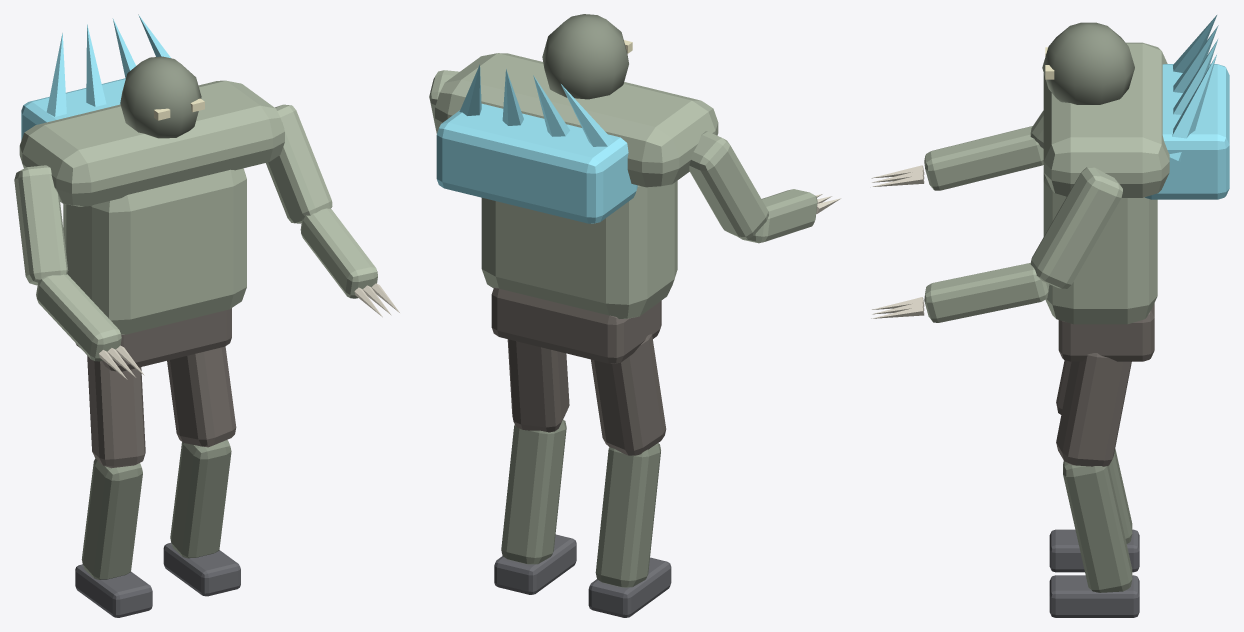
The model's file is enemy_alpha.fbx.
The picture shows the model from 3 angles, left to right: view 1: azimuth 30°, elevation 25°; view 2: azimuth 150°, elevation 25°; view 3: azimuth 270°, elevation 25°; orthographic projection. The views are drawn at different scales.
Visible parts, largest first — view 1: enemy_alpha, LegL.006, LegR.006, ArmR, ArmL, Head; view 2: enemy_alpha, LegR.006, LegL.006, ArmR, Head; view 3: enemy_alpha, LegL.006, ArmL, Head, ArmR, LegR.006.
Part boxes in pixels (left/top/right/bottom): enemy_alpha: left=19, top=14, right=284, bottom=371; LegL.006: left=163, top=346, right=240, bottom=596; LegR.006: left=75, top=355, right=152, bottom=617; ArmR: left=14, top=165, right=144, bottom=379; ArmL: left=266, top=104, right=399, bottom=317; Head: left=120, top=56, right=204, bottom=138; enemy_alpha: left=435, top=53, right=718, bottom=363; LegR.006: left=588, top=334, right=671, bottom=617; LegL.006: left=494, top=339, right=576, bottom=594; ArmR: left=689, top=131, right=840, bottom=243; Head: left=542, top=14, right=632, bottom=99; enemy_alpha: left=1043, top=15, right=1229, bottom=361; LegL.006: left=1049, top=353, right=1139, bottom=617; ArmL: left=871, top=167, right=1122, bottom=322; Head: left=1042, top=22, right=1134, bottom=104; ArmR: left=871, top=110, right=1043, bottom=190; LegR.006: left=1049, top=360, right=1139, bottom=572.
Bounding box in the file's own units: 1.22 × 2.07 × 1.2.
